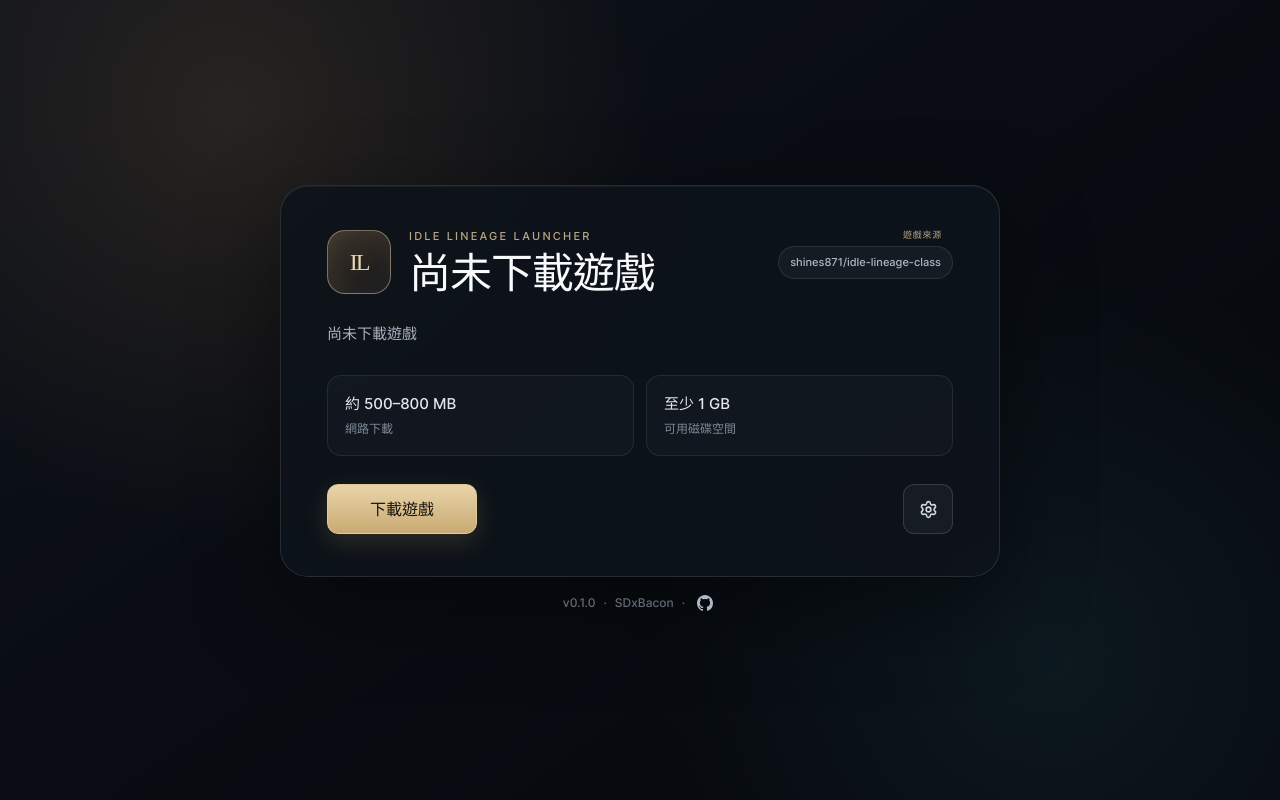
Test: App › reports repository opener failures through the existing inline error
The image size is (1280, 800).
Click the button with aria-label "在 GitHub 開啟 shines871/idle-lineage-class": (866, 262) x1=778 y1=246 x2=953 y2=279
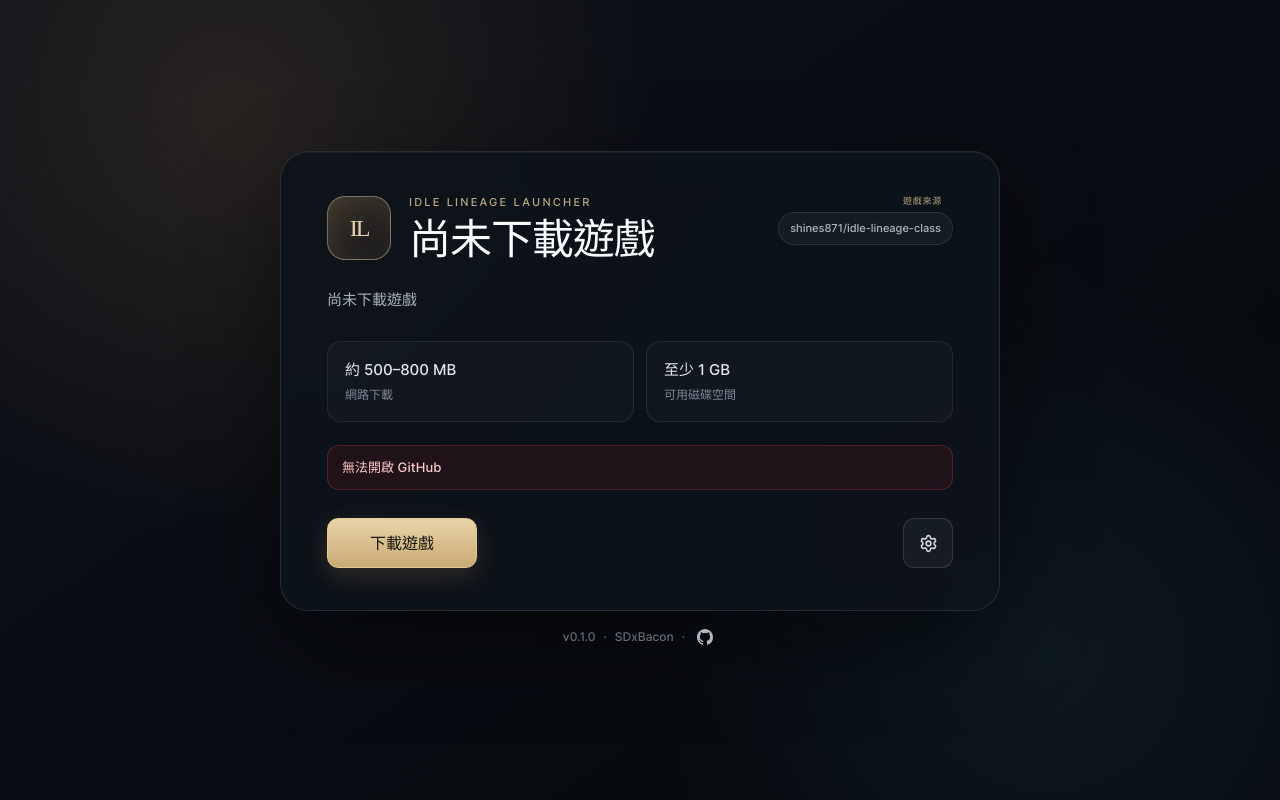
expect the button "下載遊戲" is enabled: met, box x1=327 y1=518 x2=477 y2=568
expect the message reads "無法開啟 GitHub": met, box x1=342 y1=459 x2=441 y2=475
